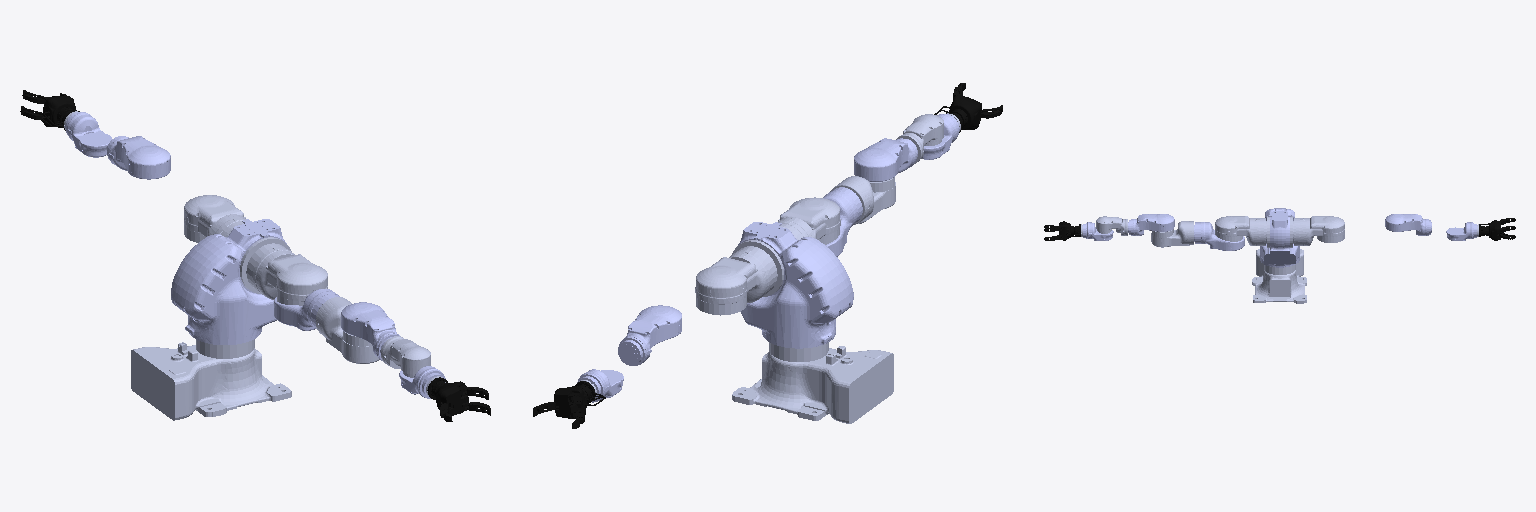
--- Render facts (derived) ---
Views: 3 orthographic renders of the robot side by side, from view 1: azimuth 30°, elevation 25°; view 2: azimuth 150°, elevation 25°; view 3: azimuth 270°, elevation 25°.
Robot: motoman_sda20d_with_grippers_support — 44 links, 43 joints (37 revolute, 6 fixed); root link base_link; default pose: all joints at 0.
Visible links, largest first — view 1: base_link, torso_link_b1, arm_right_link_1_s, arm_left_link_1_s, arm_left_link_4_u, arm_right_link_3_e, arm_right_link_4_u, arm_left_link_6_b, arm_right_link_5_r, arm_right_link_2_l, right_gripper_base_link, left_gripper_base_link (+1 smaller); view 2: base_link, torso_link_b1, arm_left_link_1_s, arm_left_link_4_u, arm_right_link_1_s, arm_right_link_4_u, arm_right_link_3_e, arm_right_link_2_l, arm_right_link_5_r, left_gripper_base_link, right_gripper_base_link, arm_left_link_6_b (+1 smaller); view 3: base_link, torso_link_b1, arm_left_link_1_s, arm_right_link_1_s, arm_right_link_3_e, arm_left_link_4_u, arm_right_link_4_u, arm_right_link_2_l.
Boxes of the visible links, x1,y1,x2,y2 form: base_link: [131, 339, 291, 420]; torso_link_b1: [171, 219, 286, 344]; arm_right_link_1_s: [240, 237, 327, 305]; arm_left_link_1_s: [184, 195, 245, 242]; arm_left_link_4_u: [107, 136, 170, 179]; arm_right_link_3_e: [315, 297, 379, 363]; arm_right_link_4_u: [341, 302, 399, 360]; arm_left_link_6_b: [65, 112, 111, 157]; arm_right_link_5_r: [381, 336, 430, 377]; arm_right_link_2_l: [274, 289, 339, 330]; right_gripper_base_link: [427, 377, 468, 415]; left_gripper_base_link: [41, 96, 79, 130]; base_link: [732, 342, 893, 423]; torso_link_b1: [738, 222, 853, 348]; arm_left_link_1_s: [695, 240, 783, 315]; arm_left_link_4_u: [618, 305, 681, 365]; arm_right_link_1_s: [778, 197, 840, 244]; arm_right_link_4_u: [854, 138, 917, 181]; arm_right_link_3_e: [830, 176, 895, 224]; arm_right_link_2_l: [823, 187, 862, 256]; arm_right_link_5_r: [896, 114, 943, 163]; left_gripper_base_link: [554, 381, 605, 418]; right_gripper_base_link: [934, 95, 981, 132]; arm_left_link_6_b: [577, 369, 623, 402]; base_link: [1252, 249, 1306, 303]; torso_link_b1: [1260, 208, 1299, 267]; arm_left_link_1_s: [1290, 216, 1344, 247]; arm_right_link_1_s: [1215, 216, 1269, 247]; arm_right_link_3_e: [1151, 221, 1193, 247]; arm_left_link_4_u: [1385, 214, 1431, 235]; arm_right_link_4_u: [1128, 214, 1174, 235]; arm_right_link_2_l: [1194, 222, 1244, 250].
Bounding box of the posed robot: 0.6384 × 3.61 × 0.7149 m (x, y, z).
39 mesh visuals loaded from 21 distinct referenced files (18 binary STL); not drawn: 3 (reference not matched to a file when rendering).

robot.urdf — motoman_sda20d_with_grippers_support:
<?xml version="1.0" ?>
<!-- =================================================================================== -->
<!-- |    This document was autogenerated by xacro from src/motoman_sda20d_with_grippers_support/urdf/motoman_sda20d_with_grippers_support.xacro | -->
<!-- |    EDITING THIS FILE BY HAND IS NOT RECOMMENDED                                 | -->
<!-- =================================================================================== -->
<robot name="motoman_sda20d_with_grippers_support" xmlns:xacro="http://www.ros.org/wiki/xacro">
  <link name="base_link">
    <inertial>
      <origin rpy="0 0 0" xyz="-0.10775 -4.7555E-05 0.10955"/>
      <mass value="29.711"/>
      <inertia ixx="0.37202" ixy="-0.00060974" ixz="-0.024001" iyy="0.77862" iyz="4.9206E-05" izz="0.84078"/>
    </inertial>
    <visual>
      <origin rpy="0 0 0" xyz="0 0 0"/>
      <geometry>
        <mesh filename="package://motoman_sda20d_support/meshes/base_link.STL"/>
      </geometry>
      <material name="">
        <color rgba="0.79216 0.81961 0.93333 1"/>
      </material>
    </visual>
    <collision>
      <origin rpy="0 0 0" xyz="0 0 0"/>
      <geometry>
        <mesh filename="package://motoman_sda20d_support/meshes/base_link.STL"/>
      </geometry>
    </collision>
  </link>
  <link name="torso_link_b1">
    <inertial>
      <origin rpy="0 0 0" xyz="0.026706 1.1222E-05 0.19713"/>
      <mass value="36.439"/>
      <inertia ixx="0.62924" ixy="7.5604E-05" ixz="-0.065715" iyy="0.97273" iyz="7.3187E-05" izz="0.67513"/>
    </inertial>
    <visual>
      <origin rpy="0 0 0" xyz="0 0 0"/>
      <geometry>
        <mesh filename="package://motoman_sda20d_support/meshes/torso_link_b1.STL"/>
      </geometry>
      <material name="">
        <color rgba="0.79216 0.81961 1 1"/>
      </material>
    </visual>
    <collision>
      <origin rpy="0 0 0" xyz="0 0 0"/>
      <geometry>
        <mesh filename="package://motoman_sda20d_support/meshes/torso_link_b1.STL"/>
      </geometry>
    </collision>
  </link>
  <joint name="torso_joint_b1" type="revolute">
    <origin rpy="0 0 0" xyz="0 0 0.2765"/>
    <parent link="base_link"/>
    <child link="torso_link_b1"/>
    <axis xyz="0 0 1"/>
    <limit effort="0" lower="-1.5555423498153687" upper="1.5555423498153687" velocity="2.4434"/>
  </joint>
  <link name="arm_left_link_1_s">
    <inertial>
      <origin rpy="0 0 0" xyz="-4.4465E-06 0.014517 -0.19101"/>
      <mass value="12.738"/>
      <inertia ixx="0.22105" ixy="1.8397E-06" ixz="-7.8564E-06" iyy="0.22442" iyz="0.016414" izz="0.069643"/>
    </inertial>
    <visual>
      <origin rpy="0 0 0" xyz="0 0 0"/>
      <geometry>
        <mesh filename="package://motoman_sda20d_support/meshes/arm_left_link_1_s.STL"/>
      </geometry>
      <material name="">
        <color rgba="0.79216 0.81961 0.93333 1"/>
      </material>
    </visual>
    <collision>
      <origin rpy="0 0 0" xyz="0 0 0"/>
      <geometry>
        <mesh filename="package://motoman_sda20d_support/meshes/arm_left_link_1_s.STL"/>
      </geometry>
    </collision>
  </link>
  <joint name="arm_left_joint_1_s" type="revolute">
    <origin rpy="1.5707963267949 0 0" xyz="0.149999999999999 0.075 0.2984"/>
    <parent link="torso_link_b1"/>
    <child link="arm_left_link_1_s"/>
    <axis xyz="0 0 -1"/>
    <limit effort="0" lower="-3.1400246620178223" upper="3.1400246620178223" velocity="0.9076052904129028"/>
  </joint>
  <link name="arm_left_link_2_l">
    <inertial>
      <origin rpy="0 0 0" xyz="0.099179 2.1877E-05 0.0070227"/>
      <mass value="6.6303"/>
      <inertia ixx="0.034667" ixy="-7.854E-06" ixz="-0.0228" iyy="0.089109" iyz="-5.3344E-06" izz="0.091218"/>
    </inertial>
    <visual>
      <origin rpy="0 0 0" xyz="0 0 0"/>
      <geometry>
        <mesh filename="package://motoman_sda20d_support/meshes/arm_left_link_2_l.STL"/>
      </geometry>
      <material name="">
        <color rgba="0.79216 0.81961 1 1"/>
      </material>
    </visual>
    <collision>
      <origin rpy="0 0 0" xyz="0 0 0"/>
      <geometry>
        <mesh filename="package://motoman_sda20d_support/meshes/arm_left_link_2_l.STL"/>
      </geometry>
    </collision>
  </link>
  <joint name="arm_left_joint_2_l" type="revolute">
    <origin rpy="-1.5707963267949 1.5707963267949 0" xyz="0 -0.0571 -0.3145"/>
    <parent link="arm_left_link_1_s"/>
    <child link="arm_left_link_2_l"/>
    <axis xyz="0 0 -1"/>
    <limit effort="0" lower="-1.9198451042175293" upper="1.9198451042175293" velocity="0.7968177795410156"/>
  </joint>
  <link name="arm_left_link_3_e">
    <inertial>
      <origin rpy="0 0 0" xyz="-2.2325E-06 -0.017232 -0.15134"/>
      <mass value="7.0076"/>
      <inertia ixx="0.077721" ixy="-1.9693E-08" ixz="3.9327E-07" iyy="0.075759" iyz="-0.0060104" izz="0.027096"/>
    </inertial>
    <visual>
      <origin rpy="0 0 0" xyz="0 0 0"/>
      <geometry>
        <mesh filename="package://motoman_sda20d_support/meshes/arm_left_link_3_e.STL"/>
      </geometry>
      <material name="">
        <color rgba="0.79216 0.81961 0.93333 1"/>
      </material>
    </visual>
    <collision>
      <origin rpy="0 0 0" xyz="0 0 0"/>
      <geometry>
        <mesh filename="package://motoman_sda20d_support/meshes/arm_left_link_3_e.STL"/>
      </geometry>
    </collision>
  </link>
  <joint name="arm_left_joint_3_e" type="revolute">
    <origin rpy="-1.5707963267949 3.141592654 1.5707963267949" xyz="0.2659 0 0.0487700000000001"/>
    <parent link="arm_left_link_2_l"/>
    <child link="arm_left_link_3_e"/>
    <axis xyz="0 0 -1"/>
    <limit effort="0" lower="-2.966156244277954" upper="2.966156244277954" velocity="1.0396981239318848"/>
  </joint>
  <link name="arm_left_link_4_u">
    <inertial>
      <origin rpy="0 0 0" xyz="0.084741 -1.2964E-05 -0.031047"/>
      <mass value="4.4681"/>
      <inertia ixx="0.0122" ixy="1.1308E-05" ixz="-0.006865" iyy="0.048201" iyz="3.1167E-06" izz="0.049778"/>
    </inertial>
    <visual>
      <origin rpy="0 0 0" xyz="0 0 0"/>
      <geometry>
        <mesh filename="package://motoman_sda20d_support/meshes/arm_left_link_4_u.STL"/>
      </geometry>
      <material name="">
        <color rgba="0.79216 0.81961 1 1"/>
      </material>
    </visual>
    <collision>
      <origin rpy="0 0 0" xyz="0 0 0"/>
      <geometry>
        <mesh filename="package://motoman_sda20d_support/meshes/arm_left_link_4_u.STL"/>
      </geometry>
    </collision>
  </link>
  <joint name="arm_left_joint_4_u" type="revolute">
    <origin rpy="1.5707963267949 1.5707963267949 0" xyz="0 0.0494000000000001 -0.2441"/>
    <parent link="arm_left_link_3_e"/>
    <child link="arm_left_link_4_u"/>
    <axis xyz="0 0 -1"/>
    <limit effort="0" lower="-2.268928050994873" upper="2.268928050994873" velocity="1.1888351440429688"/>
  </joint>
  <link name="arm_left_link_5_r">
    <inertial>
      <origin rpy="0 0 0" xyz="-2.7564E-06 0.019217 -0.11684"/>
      <mass value="2.5196"/>
      <inertia ixx="0.015437" ixy="2.7803E-08" ixz="4.3281E-07" iyy="0.015087" iyz="0.0014717" izz="0.0048607"/>
    </inertial>
    <visual>
      <origin rpy="0 0 0" xyz="0 0 0"/>
      <geometry>
        <mesh filename="package://motoman_sda20d_support/meshes/arm_left_link_5_r.STL"/>
      </geometry>
      <material name="">
        <color rgba="0.79216 0.81961 0.93333 1"/>
      </material>
    </visual>
    <collision>
      <origin rpy="0 0 0" xyz="0 0 0"/>
      <geometry>
        <mesh filename="package://motoman_sda20d_support/meshes/arm_left_link_5_r.STL"/>
      </geometry>
    </collision>
  </link>
  <joint name="arm_left_joint_5_r" type="revolute">
    <origin rpy="-1.5707963267949 0 1.5707963267949" xyz="0.26425 0 0.00150000000000017"/>
    <parent link="arm_left_link_4_u"/>
    <child link="arm_left_link_5_r"/>
    <axis xyz="0 0 1"/>
    <limit effort="0" lower="-3.140711545944214" upper="3.140711545944214" velocity="1.5719505548477173"/>
  </joint>
  <link name="arm_left_link_6_b">
    <inertial>
      <origin rpy="0 0 0" xyz="0.06511 0.045218 5.3316E-05"/>
      <mass value="2.1679"/>
      <inertia ixx="0.0044503" ixy="0.0020665" ixz="1.1542E-06" iyy="0.010743" iyz="6.4768E-07" izz="0.010568"/>
    </inertial>
    <visual>
      <origin rpy="0 0 0" xyz="0 0 0"/>
      <geometry>
        <mesh filename="package://motoman_sda20d_support/meshes/arm_left_link_6_b.STL"/>
      </geometry>
      <material name="">
        <color rgba="0.79216 0.81961 1 1"/>
      </material>
    </visual>
    <collision>
      <origin rpy="0 0 0" xyz="0 0 0"/>
      <geometry>
        <mesh filename="package://motoman_sda20d_support/meshes/arm_left_link_6_b.STL"/>
      </geometry>
    </collision>
  </link>
  <joint name="arm_left_joint_6_b" type="revolute">
    <origin rpy="3.14159265358979 1.5707963267949 0" xyz="0 0 -0.181"/>
    <parent link="arm_left_link_5_r"/>
    <child link="arm_left_link_6_b"/>
    <axis xyz="0 -1 0"/>
    <limit effort="0" lower="-1.9177645444869995" upper="1.9177645444869995" velocity="1.7428147792816162"/>
  </joint>
  <link name="arm_left_link_7_t">
    <inertial>
      <origin rpy="0 0 0" xyz="2.14651900161539E-05 5.2991646903866E-08 -0.00782705372905079"/>
      <mass value="0.107191529942716"/>
      <inertia ixx="6.53271234573758E-05" ixy="-6.14986191809701E-07" ixz="1.83404409289748E-08" iyy="6.51521999984086E-05" iyz="1.79250348726871E-11" izz="0.000126203207989527"/>
    </inertial>
    <visual>
      <origin rpy="0 0 0" xyz="0 0 0"/>
      <geometry>
        <mesh filename="package://motoman_sda20d_support/meshes/arm_left_link_7_t.STL"/>
      </geometry>
      <material name="">
        <color rgba="0.792156862745098 0.819607843137255 0.933333333333333 1"/>
      </material>
    </visual>
    <collision>
      <origin rpy="0 0 0" xyz="0 0 0"/>
      <geometry>
        <mesh filename="package://motoman_sda20d_support/meshes/arm_left_link_7_t.STL"/>
      </geometry>
    </collision>
  </link>
  <joint name="arm_left_joint_7_t" type="revolute">
    <origin rpy="3.14159265358979 1.5707963267949 0" xyz="0.16725 0.0277499999999999 0"/>
    <parent link="arm_left_link_6_b"/>
    <child link="arm_left_link_7_t"/>
    <axis xyz="0 0 1"/>
    <limit effort="0" lower="-3.1383140087127686" upper="3.1383140087127686" velocity="2.0453076362609863"/>
  </joint>
  <link name="arm_right_link_1_s">
    <inertial>
      <origin rpy="0 0 0" xyz="-4.4467925373326E-06 0.0145169997471059 -0.191014036213653"/>
      <mass value="12.7382287673505"/>
      <inertia ixx="0.22105090709977" ixy="1.83944998989813E-06" ixz="-7.85642966984562E-06" iyy="0.224419543541867" iyz="0.0164140835995225" izz="0.0696434886719727"/>
    </inertial>
    <visual>
      <origin rpy="0 0 0" xyz="0 0 0"/>
      <geometry>
        <mesh filename="package://motoman_sda20d_support/meshes/arm_right_link_1_s.STL"/>
      </geometry>
      <material name="">
        <color rgba="0.792156862745098 0.819607843137255 0.933333333333333 1"/>
      </material>
    </visual>
    <collision>
      <origin rpy="0 0 0" xyz="0 0 0"/>
      <geometry>
        <mesh filename="package://motoman_sda20d_support/meshes/arm_right_link_1_s.STL"/>
      </geometry>
    </collision>
  </link>
  <joint name="arm_right_joint_1_s" type="revolute">
    <origin rpy="-1.5707963267949 3.141592654 0" xyz="0.15 -0.075 0.2984"/>
    <parent link="torso_link_b1"/>
    <child link="arm_right_link_1_s"/>
    <axis xyz="0 0 1"/>
    <limit effort="0" lower="-3.1400246620178223" upper="3.1400246620178223" velocity="0.9076052904129028"/>
  </joint>
  <link name="arm_right_link_2_l">
    <inertial>
      <origin rpy="0 0 0" xyz="0.099179 2.1879E-05 0.0070227"/>
      <mass value="6.6303"/>
      <inertia ixx="0.034667" ixy="-7.8564E-06" ixz="-0.0228" iyy="0.089109" iyz="-5.3352E-06" izz="0.091218"/>
    </inertial>
    <visual>
      <origin rpy="0 0 0" xyz="0 0 0"/>
      <geometry>
        <mesh filename="package://motoman_sda20d_support/meshes/arm_right_link_2_l.STL"/>
      </geometry>
      <material name="">
        <color rgba="0.79216 0.81961 1 1"/>
      </material>
    </visual>
    <collision>
      <origin rpy="0 0 0" xyz="0 0 0"/>
      <geometry>
        <mesh filename="package://motoman_sda20d_support/meshes/arm_right_link_2_l.STL"/>
      </geometry>
    </collision>
  </link>
  <joint name="arm_right_joint_2_l" type="revolute">
    <origin rpy="-1.5707963267949 1.5707963267949 0" xyz="0 -0.0571 -0.3145"/>
    <parent link="arm_right_link_1_s"/>
    <child link="arm_right_link_2_l"/>
    <axis xyz="0 0 1"/>
    <limit effort="0" lower="-1.9191462993621826" upper="1.9191462993621826" velocity="0.7968177795410156"/>
  </joint>
  <link name="arm_right_link_3_e">
    <inertial>
      <origin rpy="0 0 0" xyz="-2.2337E-06 -0.017232 -0.15134"/>
      <mass value="7.0076"/>
      <inertia ixx="0.077721" ixy="-1.9006E-08" ixz="3.9363E-07" iyy="0.075759" iyz="-0.0060104" izz="0.027096"/>
    </inertial>
    <visual>
      <origin rpy="0 0 0" xyz="0 0 0"/>
      <geometry>
        <mesh filename="package://motoman_sda20d_support/meshes/arm_right_link_3_e.STL"/>
      </geometry>
      <material name="">
        <color rgba="0.79216 0.81961 0.93333 1"/>
      </material>
    </visual>
    <collision>
      <origin rpy="0 0 0" xyz="0 0 0"/>
      <geometry>
        <mesh filename="package://motoman_sda20d_support/meshes/arm_right_link_3_e.STL"/>
      </geometry>
    </collision>
  </link>
  <joint name="arm_right_joint_3_e" type="revolute">
    <origin rpy="1.5707963267949 0 -1.5707963267949" xyz="0.2659 0 0.04877"/>
    <parent link="arm_right_link_2_l"/>
    <child link="arm_right_link_3_e"/>
    <axis xyz="0 0 1"/>
    <limit effort="0" lower="-2.9661734104156494" upper="2.9661734104156494" velocity="1.0396981239318848"/>
  </joint>
  <link name="arm_right_link_4_u">
    <inertial>
      <origin rpy="0 0 0" xyz="0.084741 -1.2965E-05 -0.031047"/>
      <mass value="4.4681"/>
      <inertia ixx="0.0122" ixy="1.1308E-05" ixz="-0.006865" iyy="0.048201" iyz="3.1168E-06" izz="0.049778"/>
    </inertial>
    <visual>
      <origin rpy="0 0 0" xyz="0 0 0"/>
      <geometry>
        <mesh filename="package://motoman_sda20d_support/meshes/arm_right_link_4_u.STL"/>
      </geometry>
      <material name="">
        <color rgba="0.79216 0.81961 1 1"/>
      </material>
    </visual>
    <collision>
      <origin rpy="0 0 0" xyz="0 0 0"/>
      <geometry>
        <mesh filename="package://motoman_sda20d_support/meshes/arm_right_link_4_u.STL"/>
      </geometry>
    </collision>
  </link>
  <joint name="arm_right_joint_4_u" type="revolute">
    <origin rpy="1.5707963267949 1.5707963267949 0" xyz="0 0.0494 -0.2441"/>
    <parent link="arm_right_link_3_e"/>
    <child link="arm_right_link_4_u"/>
    <axis xyz="0 0 1"/>
    <limit effort="0" lower="-2.2681779861450195" upper="2.2681779861450195" velocity="1.1888351440429688"/>
  </joint>
  <link name="arm_right_link_5_r">
    <inertial>
      <origin rpy="0 0 0" xyz="-2.75635516211459E-06 0.0192169669460178 -0.116837512354688"/>
      <mass value="2.51962025325968"/>
      <inertia ixx="0.0154365373372443" ixy="2.78033455944647E-08" ixz="4.32809858861873E-07" iyy="0.015086966417095" iyz="0.00147166738190943" izz="0.00486066933215364"/>
    </inertial>
    <visual>
      <origin rpy="0 0 0" xyz="0 0 0"/>
      <geometry>
        <mesh filename="package://motoman_sda20d_support/meshes/arm_right_link_5_r.STL"/>
      </geometry>
      <material name="">
        <color rgba="0.792156862745098 0.819607843137255 0.933333333333333 1"/>
      </material>
    </visual>
    <collision>
      <origin rpy="0 0 0" xyz="0 0 0"/>
      <geometry>
        <mesh filename="package://motoman_sda20d_support/meshes/arm_right_link_5_r.STL"/>
      </geometry>
    </collision>
  </link>
  <joint name="arm_right_joint_5_r" type="revolute">
    <origin rpy="-1.5707963267949 0 1.5707963267949" xyz="0.26425 0 0.0015"/>
    <parent link="arm_right_link_4_u"/>
    <child link="arm_right_link_5_r"/>
    <axis xyz="0 0 -1"/>
    <limit effort="0" lower="-3.140711545944214" upper="3.140711545944214" velocity="1.5719505548477173"/>
  </joint>
  <link name="arm_right_link_6_b">
    <inertial>
      <origin rpy="0 0 0" xyz="0.06511 -5.3316E-05 0.013468"/>
      <mass value="2.1679"/>
      <inertia ixx="0.0044503" ixy="-1.1542E-06" ixz="0.0020665" iyy="0.010568" iyz="-6.4768E-07" izz="0.010743"/>
    </inertial>
    <visual>
      <origin rpy="0 0 0" xyz="0 0 0"/>
      <geometry>
        <mesh filename="package://motoman_sda20d_support/meshes/arm_right_link_6_b.STL"/>
      </geometry>
      <material name="">
        <color rgba="0.79216 0.81961 1 1"/>
      </material>
    </visual>
    <collision>
      <origin rpy="0 0 0" xyz="0 0 0"/>
      <geometry>
        <mesh filename="package://motoman_sda20d_support/meshes/arm_right_link_6_b.STL"/>
      </geometry>
    </collision>
  </link>
  <joint name="arm_right_joint_6_b" type="revolute">
    <origin rpy="1.5707963267949 1.5707963267949 0" xyz="0 -0.0317499999999999 -0.181"/>
    <parent link="arm_right_link_5_r"/>
    <child link="arm_right_link_6_b"/>
    <axis xyz="0 0 1"/>
    <limit effort="0" lower="-1.9177796840667725" upper="1.9177796840667725" velocity="1.7428147792816162"/>
  </joint>
  <link name="arm_right_link_7_t">
    <inertial>
      <origin rpy="0 0 0" xyz="2.1465E-05 5.2992E-08 -0.0078271"/>
      <mass value="0.10719"/>
      <inertia ixx="6.5327E-05" ixy="-6.1499E-07" ixz="1.834E-08" iyy="6.5152E-05" iyz="1.7925E-11" izz="0.0001262"/>
    </inertial>
    <visual>
      <origin rpy="0 0 0" xyz="0 0 0"/>
      <geometry>
        <mesh filename="package://motoman_sda20d_support/meshes/arm_right_link_7_t.STL"/>
      </geometry>
      <material name="">
        <color rgba="0.79216 0.81961 0.93333 1"/>
      </material>
    </visual>
    <collision>
      <origin rpy="0 0 0" xyz="0 0 0"/>
      <geometry>
        <mesh filename="package://motoman_sda20d_support/meshes/arm_right_link_7_t.STL"/>
      </geometry>
    </collision>
  </link>
  <joint name="arm_right_joint_7_t" type="revolute">
    <origin rpy="-1.5707963267949 0 1.5707963267949" xyz="0.16725 0 -0.004"/>
    <parent link="arm_right_link_6_b"/>
    <child link="arm_right_link_7_t"/>
    <axis xyz="0 0 -1"/>
    <limit effort="0" lower="-3.1383140087127686" upper="3.1383140087127686" velocity="2.0453076362609863"/>
  </joint>
  <link name="left_gripper_base_link">
    <visual>
      <origin rpy="0 0 0" xyz="0 0 0"/>
      <geometry>
        <mesh filename="package://robotiq_gripper_3_finger_adaptive_support/meshes/gripper_base_link.STL"/>
      </geometry>
      <material name="">
        <color rgba="0.10196 0.10196 0.10196 1"/>
      </material>
    </visual>
    <collision>
      <origin rpy="0 0 0" xyz="0 0 0"/>
      <geometry>
        <mesh filename="package://robotiq_gripper_3_finger_adaptive_support/meshes/gripper_base_link.STL"/>
      </geometry>
    </collision>
  </link>
  <link name="left_gripper_finger_link_a_1">
    <visual>
      <origin rpy="0 0 0" xyz="0 0 0"/>
      <geometry>
        <mesh filename="package://robotiq_gripper_3_finger_adaptive_support/meshes/gripper_finger_link_1.STL"/>
      </geometry>
      <material name="">
        <color rgba="0.10196 0.10196 0.10196 1"/>
      </material>
    </visual>
    <collision>
      <origin rpy="0 0 0" xyz="0 0 0"/>
      <geometry>
        <mesh filename="package://robotiq_gripper_3_finger_adaptive_support/meshes/gripper_finger_link_1.STL"/>
      </geometry>
    </collision>
  </link>
  <joint name="left_gripper_finger_joint_a_1" type="revolute">
    <origin rpy="1.57079632679 0.0079495 -3.0107" xyz="0.044008 -0.054539 0.13897"/>
    <parent link="left_gripper_base_link"/>
    <child link="left_gripper_finger_link_a_1"/>
    <axis xyz="0 0 -1"/>
    <limit effort="1000" lower="-0.1755" upper="0.1744" velocity="0.1744"/>
  </joint>
  <link name="left_gripper_finger_link_a_2">
    <visual>
      <origin rpy="0 0 0" xyz="0 0 0"/>
      <geometry>
        <mesh filename="package://robotiq_gripper_3_finger_adaptive_support/meshes/gripper_finger_link_2.STL"/>
      </geometry>
      <material name="">
        <color rgba="0.10196 0.10196 0.10196 1"/>
      </material>
    </visual>
    <collision>
      <origin rpy="0 0 0" xyz="0 0 0"/>
      <geometry>
        <mesh filename="package://robotiq_gripper_3_finger_adaptive_support/meshes/gripper_finger_link_2.STL"/>
      </geometry>
    </collision>
  </link>
  <joint name="left_gripper_finger_joint_a_2" type="revolute">
    <origin rpy="3.14159265359 -1.57079632679 3.14159265359" xyz="0.011219 0.021604 0.014288"/>
    <parent link="left_gripper_finger_link_a_1"/>
    <child link="left_gripper_finger_link_a_2"/>
    <axis xyz="0 0 -1"/>
    <limit effort="1000" lower="0" upper="1.4801" velocity="1.4801"/>
  </joint>
  <link name="left_gripper_finger_link_a_3">
    <visual>
      <origin rpy="0 0 0" xyz="0 0 0"/>
      <geometry>
        <mesh filename="package://robotiq_gripper_3_finger_adaptive_support/meshes/gripper_finger_link_3.STL"/>
      </geometry>
      <material name="">
        <color rgba="0.10196 0.10196 0.10196 1"/>
      </material>
    </visual>
    <collision>
      <origin rpy="0 0 0" xyz="0 0 0"/>
      <geometry>
        <mesh filename="package://robotiq_gripper_3_finger_adaptive_support/meshes/gripper_finger_link_3.STL"/>
      </geometry>
    </collision>
  </link>
  <joint name="left_gripper_finger_joint_a_3" type="revolute">
    <origin rpy="0 0 -0.05236" xyz="-0.03278 0.046815 -0.0007872"/>
    <parent link="left_gripper_finger_link_a_2"/>
    <child link="left_gripper_finger_link_a_3"/>
    <axis xyz="0 0 -1"/>
    <limit effort="1000" lower="0" upper="1.2322" velocity="1.2322"/>
  </joint>
  <link name="left_gripper_finger_link_a_4">
    <visual>
      <origin rpy="0 0 0" xyz="0 0 0"/>
      <geometry>
        <mesh filename="package://robotiq_gripper_3_finger_adaptive_support/meshes/gripper_finger_link_4.STL"/>
      </geometry>
      <material name="">
        <color rgba="0.10196 0.10196 0.10196 1"/>
      </material>
    </visual>
    <collision>
      <origin rpy="0 0 0" xyz="0 0 0"/>
      <geometry>
        <mesh filename="package://robotiq_gripper_3_finger_adaptive_support/meshes/gripper_finger_link_4.STL"/>
      </geometry>
    </collision>
  </link>
  <joint name="left_gripper_finger_joint_a_4" type="revolute">
    <origin rpy="0 0 0.05236" xyz="-0.021853 0.03121 1.28E-05"/>
    <parent link="left_gripper_finger_link_a_3"/>
    <child link="left_gripper_finger_link_a_4"/>
    <axis xyz="0 0 -1"/>
    <limit effort="1000" lower="-1.27" upper="0.6757" velocity="0.6757"/>
  </joint>
  <link name="left_gripper_finger_link_b_1">
    <visual>
      <origin rpy="0 0 0" xyz="0 0 0"/>
      <geometry>
        <mesh filename="package://robotiq_gripper_3_finger_adaptive_support/meshes/gripper_finger_link_1.STL"/>
      </geometry>
      <material name="">
        <color rgba="0.10196 0.10196 0.10196 1"/>
      </material>
    </visual>
    <collision>
      <origin rpy="0 0 0" xyz="0 0 0"/>
      <geometry>
        <mesh filename="package://robotiq_gripper_3_finger_adaptive_support/meshes/gripper_finger_link_1.STL"/>
      </geometry>
    </collision>
  </link>
  <joint name="left_gripper_finger_joint_b_1" type="revolute">
    <origin rpy="1.57079632679 0.0079495 -3.0107" xyz="-0.028392 -0.064071 0.13897"/>
    <parent link="left_gripper_base_link"/>
    <child link="left_gripper_finger_link_b_1"/>
    <axis xyz="0 0 1"/>
    <limit effort="1000" lower="-0.1755" upper="0.1744" velocity="0.1744"/>
  </joint>
  <link name="left_gripper_finger_link_b_2">
    <visual>
      <origin rpy="0 0 0" xyz="0 0 0"/>
      <geometry>
        <mesh filename="package://robotiq_gripper_3_finger_adaptive_support/meshes/gripper_finger_link_2.STL"/>
      </geometry>
      <material name="">
        <color rgba="0.10196 0.10196 0.10196 1"/>
      </material>
    </visual>
    <collision>
      <origin rpy="0 0 0" xyz="0 0 0"/>
      <geometry>
        <mesh filename="package://robotiq_gripper_3_finger_adaptive_support/meshes/gripper_finger_link_2.STL"/>
      </geometry>
    </collision>
  </link>
  <joint name="left_gripper_finger_joint_b_2" type="revolute">
    <origin rpy="3.14159265359 -1.57079632679 3.14159265359" xyz="0.011219 0.021604 0.014288"/>
    <parent link="left_gripper_finger_link_b_1"/>
    <child link="left_gripper_finger_link_b_2"/>
    <axis xyz="0 0 -1"/>
    <limit effort="1000" lower="0" upper="1.4801" velocity="1.4801"/>
  </joint>
  <link name="left_gripper_finger_link_b_3">
    <visual>
      <origin rpy="0 0 0" xyz="0 0 0"/>
      <geometry>
        <mesh filename="package://robotiq_gripper_3_finger_adaptive_support/meshes/gripper_finger_link_3.STL"/>
      </geometry>
      <material name="">
        <color rgba="0.10196 0.10196 0.10196 1"/>
      </material>
    </visual>
    <collision>
      <origin rpy="0 0 0" xyz="0 0 0"/>
      <geometry>
        <mesh filename="package://robotiq_gripper_3_finger_adaptive_support/meshes/gripper_finger_link_3.STL"/>
      </geometry>
    </collision>
  </link>
  <joint name="left_gripper_finger_joint_b_3" type="revolute">
    <origin rpy="0 0 -0.05236" xyz="-0.03278 0.046815 -0.0007872"/>
    <parent link="left_gripper_finger_link_b_2"/>
    <child link="left_gripper_finger_link_b_3"/>
    <axis xyz="0 0 -1"/>
    <limit effort="1000" lower="0" upper="1.2322" velocity="1.2322"/>
  </joint>
  <link name="left_gripper_finger_link_b_4">
    <visual>
      <origin rpy="0 0 0" xyz="0 0 0"/>
      <geometry>
        <mesh filename="package://robotiq_gripper_3_finger_adaptive_support/meshes/gripper_finger_link_4.STL"/>
      </geometry>
      <material name="">
        <color rgba="0.10196 0.10196 0.10196 1"/>
      </material>
    </visual>
    <collision>
      <origin rpy="0 0 0" xyz="0 0 0"/>
      <geometry>
        <mesh filename="package://robotiq_gripper_3_finger_adaptive_support/meshes/gripper_finger_link_4.STL"/>
      </geometry>
    </collision>
  </link>
  <joint name="left_gripper_finger_joint_b_4" type="revolute">
    <origin rpy="0 0 0.05236" xyz="-0.021853 0.03121 1.28E-05"/>
    <parent link="left_gripper_finger_link_b_3"/>
    <child link="left_gripper_finger_link_b_4"/>
    <axis xyz="0 0 -1"/>
    <limit effort="1000" lower="-1.27" upper="0.6757" velocity="0.6757"/>
  </joint>
  <link name="left_gripper_finger_link_c_1">
    <visual>
      <origin rpy="0 0 0" xyz="0 0 0"/>
      <geometry>
        <mesh filename="package://robotiq_gripper_3_finger_adaptive_support/meshes/gripper_finger_link_1.STL"/>
      </geometry>
      <material name="">
        <color rgba="0.10196 0.10196 0.10196 1"/>
      </material>
    </visual>
    <collision>
      <origin rpy="0 0 0" xyz="0 0 0"/>
      <geometry>
        <mesh filename="package://robotiq_gripper_3_finger_adaptive_support/meshes/gripper_finger_link_1.STL"/>
      </geometry>
    </collision>
  </link>
  <joint name="left_gripper_finger_joint_c_1" type="fixed">
    <origin rpy="1.57079632679 0.0079495 0.1309" xyz="-0.007695 0.058449 0.13897"/>
    <parent link="left_gripper_base_link"/>
    <child link="left_gripper_finger_link_c_1"/>
    <axis xyz="0 0 0"/>
    <limit effort="1000" lower="0" upper="0" velocity="0"/>
  </joint>
  <link name="left_gripper_finger_link_c_2">
    <visual>
      <origin rpy="0 0 0" xyz="0 0 0"/>
      <geometry>
        <mesh filename="package://robotiq_gripper_3_finger_adaptive_support/meshes/gripper_finger_link_2.STL"/>
      </geometry>
      <material name="">
        <color rgba="0.10196 0.10196 0.10196 1"/>
      </material>
    </visual>
    <collision>
      <origin rpy="0 0 0" xyz="0 0 0"/>
      <geometry>
        <mesh filename="package://robotiq_gripper_3_finger_adaptive_support/meshes/gripper_finger_link_2.STL"/>
      </geometry>
    </collision>
  </link>
  <joint name="left_gripper_finger_joint_c_2" type="revolute">
    <origin rpy="3.14159265359 -1.57079632679 3.14159265359" xyz="0.011219 0.021604 0.014288"/>
    <parent link="left_gripper_finger_link_c_1"/>
    <child link="left_gripper_finger_link_c_2"/>
    <axis xyz="0 0 -1"/>
    <limit effort="1000" lower="0" upper="1.4801" velocity="1.4801"/>
  </joint>
  <link name="left_gripper_finger_link_c_3">
    <visual>
      <origin rpy="0 0 0" xyz="0 0 0"/>
      <geometry>
        <mesh filename="package://robotiq_gripper_3_finger_adaptive_support/meshes/gripper_finger_link_3.STL"/>
      </geometry>
      <material name="">
        <color rgba="0.10196 0.10196 0.10196 1"/>
      </material>
    </visual>
    <collision>
      <origin rpy="0 0 0" xyz="0 0 0"/>
      <geometry>
        <mesh filename="package://robotiq_gripper_3_finger_adaptive_support/meshes/gripper_finger_link_3.STL"/>
      </geometry>
    </collision>
  </link>
  <joint name="left_gripper_finger_joint_c_3" type="revolute">
    <origin rpy="0 0 -0.05236" xyz="-0.03278 0.046815 -0.0007872"/>
    <parent link="left_gripper_finger_link_c_2"/>
    <child link="left_gripper_finger_link_c_3"/>
    <axis xyz="0 0 -1"/>
    <limit effort="1000" lower="0" upper="1.2322" velocity="1.2322"/>
  </joint>
  <link name="left_gripper_finger_link_c_4">
    <visual>
      <origin rpy="0 0 0" xyz="0 0 0"/>
      <geometry>
        <mesh filename="package://robotiq_gripper_3_finger_adaptive_support/meshes/gripper_finger_link_4.STL"/>
      </geometry>
      <material name="">
        <color rgba="0.10196 0.10196 0.10196 1"/>
      </material>
    </visual>
    <collision>
      <origin rpy="0 0 0" xyz="0 0 0"/>
      <geometry>
        <mesh filename="package://robotiq_gripper_3_finger_adaptive_support/meshes/gripper_finger_link_4.STL"/>
      </geometry>
    </collision>
  </link>
  <joint name="left_gripper_finger_joint_c_4" type="revolute">
    <origin rpy="0 0 0.05236" xyz="-0.021853 0.03121 1.28E-05"/>
    <parent link="left_gripper_finger_link_c_3"/>
    <child link="left_gripper_finger_link_c_4"/>
    <axis xyz="0 0 -1"/>
    <limit effort="1000" lower="-1.27" upper="0.6757" velocity="0.6757"/>
  </joint>
  <joint name="arm_left_to_gripper" type="fixed">
    <origin rpy="0 3.14159265359 -1.57079632679" xyz="0 0 -0.015"/>
    <parent link="arm_left_link_7_t"/>
    <child link="left_gripper_base_link"/>
  </joint>
  <link name="right_gripper_base_link">
    <visual>
      <origin rpy="0 0 0" xyz="0 0 0"/>
      <geometry>
        <mesh filename="package://robotiq_gripper_3_finger_adaptive_support/meshes/gripper_base_link.STL"/>
      </geometry>
      <material name="">
        <color rgba="0.10196 0.10196 0.10196 1"/>
      </material>
    </visual>
    <collision>
      <origin rpy="0 0 0" xyz="0 0 0"/>
      <geometry>
        <mesh filename="package://robotiq_gripper_3_finger_adaptive_support/meshes/gripper_base_link.STL"/>
      </geometry>
    </collision>
  </link>
  <link name="right_gripper_finger_link_a_1">
    <visual>
      <origin rpy="0 0 0" xyz="0 0 0"/>
      <geometry>
        <mesh filename="package://robotiq_gripper_3_finger_adaptive_support/meshes/gripper_finger_link_1.STL"/>
      </geometry>
      <material name="">
        <color rgba="0.10196 0.10196 0.10196 1"/>
      </material>
    </visual>
    <collision>
      <origin rpy="0 0 0" xyz="0 0 0"/>
      <geometry>
        <mesh filename="package://robotiq_gripper_3_finger_adaptive_support/meshes/gripper_finger_link_1.STL"/>
      </geometry>
    </collision>
  </link>
  <joint name="right_gripper_finger_joint_a_1" type="revolute">
    <origin rpy="1.57079632679 0.0079495 -3.0107" xyz="0.044008 -0.054539 0.13897"/>
    <parent link="right_gripper_base_link"/>
    <child link="right_gripper_finger_link_a_1"/>
    <axis xyz="0 0 -1"/>
    <limit effort="1000" lower="-0.1755" upper="0.1744" velocity="0.1744"/>
  </joint>
  <link name="right_gripper_finger_link_a_2">
    <visual>
      <origin rpy="0 0 0" xyz="0 0 0"/>
      <geometry>
        <mesh filename="package://robotiq_gripper_3_finger_adaptive_support/meshes/gripper_finger_link_2.STL"/>
      </geometry>
      <material name="">
        <color rgba="0.10196 0.10196 0.10196 1"/>
      </material>
    </visual>
    <collision>
      <origin rpy="0 0 0" xyz="0 0 0"/>
      <geometry>
        <mesh filename="package://robotiq_gripper_3_finger_adaptive_support/meshes/gripper_finger_link_2.STL"/>
      </geometry>
    </collision>
  </link>
  <joint name="right_gripper_finger_joint_a_2" type="revolute">
    <origin rpy="3.14159265359 -1.57079632679 3.14159265359" xyz="0.011219 0.021604 0.014288"/>
    <parent link="right_gripper_finger_link_a_1"/>
    <child link="right_gripper_finger_link_a_2"/>
    <axis xyz="0 0 -1"/>
    <limit effort="1000" lower="0" upper="1.4801" velocity="1.4801"/>
  </joint>
  <link name="right_gripper_finger_link_a_3">
    <visual>
      <origin rpy="0 0 0" xyz="0 0 0"/>
      <geometry>
        <mesh filename="package://robotiq_gripper_3_finger_adaptive_support/meshes/gripper_finger_link_3.STL"/>
      </geometry>
      <material name="">
        <color rgba="0.10196 0.10196 0.10196 1"/>
      </material>
    </visual>
    <collision>
      <origin rpy="0 0 0" xyz="0 0 0"/>
      <geometry>
        <mesh filename="package://robotiq_gripper_3_finger_adaptive_support/meshes/gripper_finger_link_3.STL"/>
      </geometry>
    </collision>
  </link>
  <joint name="right_gripper_finger_joint_a_3" type="revolute">
    <origin rpy="0 0 -0.05236" xyz="-0.03278 0.046815 -0.0007872"/>
    <parent link="right_gripper_finger_link_a_2"/>
    <child link="right_gripper_finger_link_a_3"/>
    <axis xyz="0 0 -1"/>
    <limit effort="1000" lower="0" upper="1.2322" velocity="1.2322"/>
  </joint>
  <link name="right_gripper_finger_link_a_4">
    <visual>
      <origin rpy="0 0 0" xyz="0 0 0"/>
      <geometry>
        <mesh filename="package://robotiq_gripper_3_finger_adaptive_support/meshes/gripper_finger_link_4.STL"/>
      </geometry>
      <material name="">
        <color rgba="0.10196 0.10196 0.10196 1"/>
      </material>
    </visual>
    <collision>
      <origin rpy="0 0 0" xyz="0 0 0"/>
      <geometry>
        <mesh filename="package://robotiq_gripper_3_finger_adaptive_support/meshes/gripper_finger_link_4.STL"/>
      </geometry>
    </collision>
  </link>
  <joint name="right_gripper_finger_joint_a_4" type="revolute">
    <origin rpy="0 0 0.05236" xyz="-0.021853 0.03121 1.28E-05"/>
    <parent link="right_gripper_finger_link_a_3"/>
    <child link="right_gripper_finger_link_a_4"/>
    <axis xyz="0 0 -1"/>
    <limit effort="1000" lower="-1.27" upper="0.6757" velocity="0.6757"/>
  </joint>
  <link name="right_gripper_finger_link_b_1">
    <visual>
      <origin rpy="0 0 0" xyz="0 0 0"/>
      <geometry>
        <mesh filename="package://robotiq_gripper_3_finger_adaptive_support/meshes/gripper_finger_link_1.STL"/>
      </geometry>
      <material name="">
        <color rgba="0.10196 0.10196 0.10196 1"/>
      </material>
    </visual>
    <collision>
      <origin rpy="0 0 0" xyz="0 0 0"/>
      <geometry>
        <mesh filename="package://robotiq_gripper_3_finger_adaptive_support/meshes/gripper_finger_link_1.STL"/>
      </geometry>
    </collision>
  </link>
  <joint name="right_gripper_finger_joint_b_1" type="revolute">
    <origin rpy="1.57079632679 0.0079495 -3.0107" xyz="-0.028392 -0.064071 0.13897"/>
    <parent link="right_gripper_base_link"/>
    <child link="right_gripper_finger_link_b_1"/>
    <axis xyz="0 0 1"/>
    <limit effort="1000" lower="-0.1755" upper="0.1744" velocity="0.1744"/>
  </joint>
  <link name="right_gripper_finger_link_b_2">
    <visual>
      <origin rpy="0 0 0" xyz="0 0 0"/>
      <geometry>
        <mesh filename="package://robotiq_gripper_3_finger_adaptive_support/meshes/gripper_finger_link_2.STL"/>
      </geometry>
      <material name="">
        <color rgba="0.10196 0.10196 0.10196 1"/>
      </material>
    </visual>
    <collision>
      <origin rpy="0 0 0" xyz="0 0 0"/>
      <geometry>
        <mesh filename="package://robotiq_gripper_3_finger_adaptive_support/meshes/gripper_finger_link_2.STL"/>
      </geometry>
    </collision>
  </link>
  <joint name="right_gripper_finger_joint_b_2" type="revolute">
    <origin rpy="3.14159265359 -1.57079632679 3.14159265359" xyz="0.011219 0.021604 0.014288"/>
    <parent link="right_gripper_finger_link_b_1"/>
    <child link="right_gripper_finger_link_b_2"/>
    <axis xyz="0 0 -1"/>
    <limit effort="1000" lower="0" upper="1.4801" velocity="1.4801"/>
  </joint>
  <link name="right_gripper_finger_link_b_3">
    <visual>
      <origin rpy="0 0 0" xyz="0 0 0"/>
      <geometry>
        <mesh filename="package://robotiq_gripper_3_finger_adaptive_support/meshes/gripper_finger_link_3.STL"/>
      </geometry>
      <material name="">
        <color rgba="0.10196 0.10196 0.10196 1"/>
      </material>
    </visual>
    <collision>
      <origin rpy="0 0 0" xyz="0 0 0"/>
      <geometry>
        <mesh filename="package://robotiq_gripper_3_finger_adaptive_support/meshes/gripper_finger_link_3.STL"/>
      </geometry>
    </collision>
  </link>
  <joint name="right_gripper_finger_joint_b_3" type="revolute">
    <origin rpy="0 0 -0.05236" xyz="-0.03278 0.046815 -0.0007872"/>
    <parent link="right_gripper_finger_link_b_2"/>
    <child link="right_gripper_finger_link_b_3"/>
    <axis xyz="0 0 -1"/>
    <limit effort="1000" lower="0" upper="1.2322" velocity="1.2322"/>
  </joint>
  <link name="right_gripper_finger_link_b_4">
    <visual>
      <origin rpy="0 0 0" xyz="0 0 0"/>
      <geometry>
        <mesh filename="package://robotiq_gripper_3_finger_adaptive_support/meshes/gripper_finger_link_4.STL"/>
      </geometry>
      <material name="">
        <color rgba="0.10196 0.10196 0.10196 1"/>
      </material>
    </visual>
    <collision>
      <origin rpy="0 0 0" xyz="0 0 0"/>
      <geometry>
        <mesh filename="package://robotiq_gripper_3_finger_adaptive_support/meshes/gripper_finger_link_4.STL"/>
      </geometry>
    </collision>
  </link>
  <joint name="right_gripper_finger_joint_b_4" type="revolute">
    <origin rpy="0 0 0.05236" xyz="-0.021853 0.03121 1.28E-05"/>
    <parent link="right_gripper_finger_link_b_3"/>
    <child link="right_gripper_finger_link_b_4"/>
    <axis xyz="0 0 -1"/>
    <limit effort="1000" lower="-1.27" upper="0.6757" velocity="0.6757"/>
  </joint>
  <link name="right_gripper_finger_link_c_1">
    <visual>
      <origin rpy="0 0 0" xyz="0 0 0"/>
      <geometry>
        <mesh filename="package://robotiq_gripper_3_finger_adaptive_support/meshes/gripper_finger_link_1.STL"/>
      </geometry>
      <material name="">
        <color rgba="0.10196 0.10196 0.10196 1"/>
      </material>
    </visual>
    <collision>
      <origin rpy="0 0 0" xyz="0 0 0"/>
      <geometry>
        <mesh filename="package://robotiq_gripper_3_finger_adaptive_support/meshes/gripper_finger_link_1.STL"/>
      </geometry>
    </collision>
  </link>
  <joint name="right_gripper_finger_joint_c_1" type="fixed">
    <origin rpy="1.57079632679 0.0079495 0.1309" xyz="-0.007695 0.058449 0.13897"/>
    <parent link="right_gripper_base_link"/>
    <child link="right_gripper_finger_link_c_1"/>
    <axis xyz="0 0 0"/>
    <limit effort="1000" lower="0" upper="0" velocity="0"/>
  </joint>
  <link name="right_gripper_finger_link_c_2">
    <visual>
      <origin rpy="0 0 0" xyz="0 0 0"/>
      <geometry>
        <mesh filename="package://robotiq_gripper_3_finger_adaptive_support/meshes/gripper_finger_link_2.STL"/>
      </geometry>
      <material name="">
        <color rgba="0.10196 0.10196 0.10196 1"/>
      </material>
    </visual>
    <collision>
      <origin rpy="0 0 0" xyz="0 0 0"/>
      <geometry>
        <mesh filename="package://robotiq_gripper_3_finger_adaptive_support/meshes/gripper_finger_link_2.STL"/>
      </geometry>
    </collision>
  </link>
  <joint name="right_gripper_finger_joint_c_2" type="revolute">
    <origin rpy="3.14159265359 -1.57079632679 3.14159265359" xyz="0.011219 0.021604 0.014288"/>
    <parent link="right_gripper_finger_link_c_1"/>
    <child link="right_gripper_finger_link_c_2"/>
    <axis xyz="0 0 -1"/>
    <limit effort="1000" lower="0" upper="1.4801" velocity="1.4801"/>
  </joint>
  <link name="right_gripper_finger_link_c_3">
    <visual>
      <origin rpy="0 0 0" xyz="0 0 0"/>
      <geometry>
        <mesh filename="package://robotiq_gripper_3_finger_adaptive_support/meshes/gripper_finger_link_3.STL"/>
      </geometry>
      <material name="">
        <color rgba="0.10196 0.10196 0.10196 1"/>
      </material>
    </visual>
    <collision>
      <origin rpy="0 0 0" xyz="0 0 0"/>
      <geometry>
        <mesh filename="package://robotiq_gripper_3_finger_adaptive_support/meshes/gripper_finger_link_3.STL"/>
      </geometry>
    </collision>
  </link>
  <joint name="right_gripper_finger_joint_c_3" type="revolute">
    <origin rpy="0 0 -0.05236" xyz="-0.03278 0.046815 -0.0007872"/>
    <parent link="right_gripper_finger_link_c_2"/>
    <child link="right_gripper_finger_link_c_3"/>
    <axis xyz="0 0 -1"/>
    <limit effort="1000" lower="0" upper="1.2322" velocity="1.2322"/>
  </joint>
  <link name="right_gripper_finger_link_c_4">
    <visual>
      <origin rpy="0 0 0" xyz="0 0 0"/>
      <geometry>
        <mesh filename="package://robotiq_gripper_3_finger_adaptive_support/meshes/gripper_finger_link_4.STL"/>
      </geometry>
      <material name="">
        <color rgba="0.10196 0.10196 0.10196 1"/>
      </material>
    </visual>
    <collision>
      <origin rpy="0 0 0" xyz="0 0 0"/>
      <geometry>
        <mesh filename="package://robotiq_gripper_3_finger_adaptive_support/meshes/gripper_finger_link_4.STL"/>
      </geometry>
    </collision>
  </link>
  <joint name="right_gripper_finger_joint_c_4" type="revolute">
    <origin rpy="0 0 0.05236" xyz="-0.021853 0.03121 1.28E-05"/>
    <parent link="right_gripper_finger_link_c_3"/>
    <child link="right_gripper_finger_link_c_4"/>
    <axis xyz="0 0 -1"/>
    <limit effort="1000" lower="-1.27" upper="0.6757" velocity="0.6757"/>
  </joint>
  <joint name="arm_right_to_gripper" type="fixed">
    <origin rpy="0 3.14159265359 -1.57079632679" xyz="0 0 -0.015"/>
    <parent link="arm_right_link_7_t"/>
    <child link="right_gripper_base_link"/>
  </joint>
  <link name="left_link_endpoint">
  </link>
  <joint name="left_joint_endpoint" type="fixed">
    <origin rpy="3.14159265358979 0 1.5707963267949" xyz="0.0 0.0 0.29"/>
    <parent link="left_gripper_base_link"/>
    <child link="left_link_endpoint"/>
  </joint>
  <link name="right_link_endpoint">
  </link>
  <joint name="right_joint_endpoint" type="fixed">
    <origin rpy="3.14159265358979 0 1.5707963267949" xyz="0.0 0.0 0.29"/>
    <parent link="right_gripper_base_link"/>
    <child link="right_link_endpoint"/>
  </joint>
</robot>
